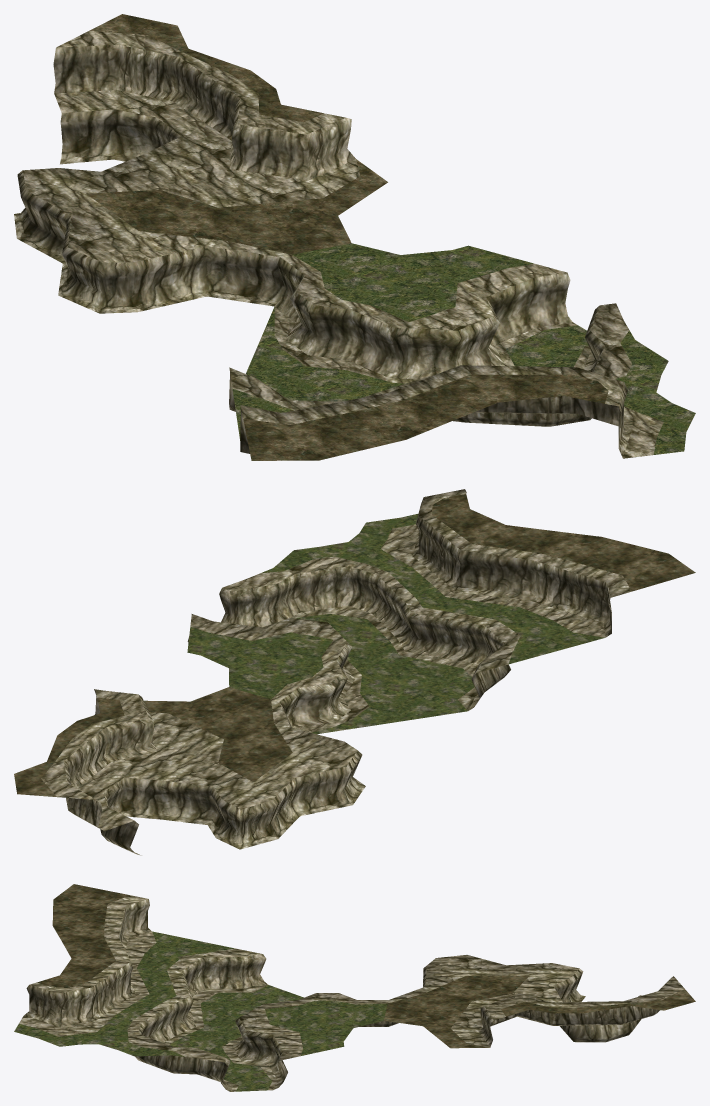
The model's file is CB_NEWPLAYSURFACE_CB_PLAYSURFACE67.fbx.
3 renders of one model, top to bottom at view 1: azimuth 30°, elevation 25°; view 2: azimuth 150°, elevation 25°; view 3: azimuth 270°, elevation 25°, orthographic. The views are drawn at different scales.
Parts seen in each view (by area): view 1: CB_NEWPLAYSURFACE_CB_PLAYSURFACE67; view 2: CB_NEWPLAYSURFACE_CB_PLAYSURFACE67; view 3: CB_NEWPLAYSURFACE_CB_PLAYSURFACE67.
Part boxes in pixels (left/top/right/bottom): CB_NEWPLAYSURFACE_CB_PLAYSURFACE67: left=14, top=14, right=695, bottom=460; CB_NEWPLAYSURFACE_CB_PLAYSURFACE67: left=14, top=489, right=695, bottom=855; CB_NEWPLAYSURFACE_CB_PLAYSURFACE67: left=14, top=884, right=695, bottom=1091.
Size of the model in its own units: 387002 by 72729 by 752519.
Materials: 4 (4 with a texture image).
